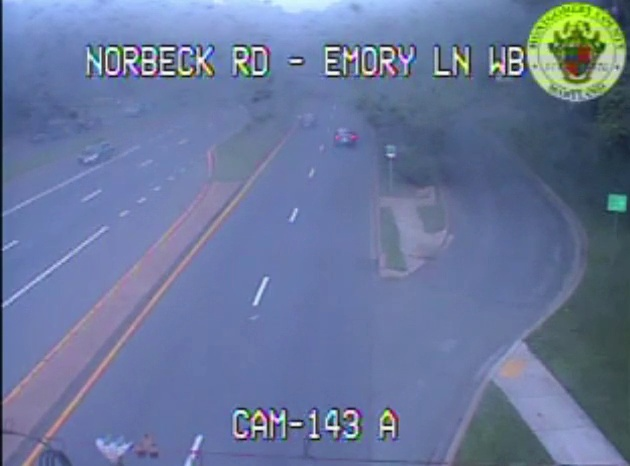car: (333, 128, 356, 147)
